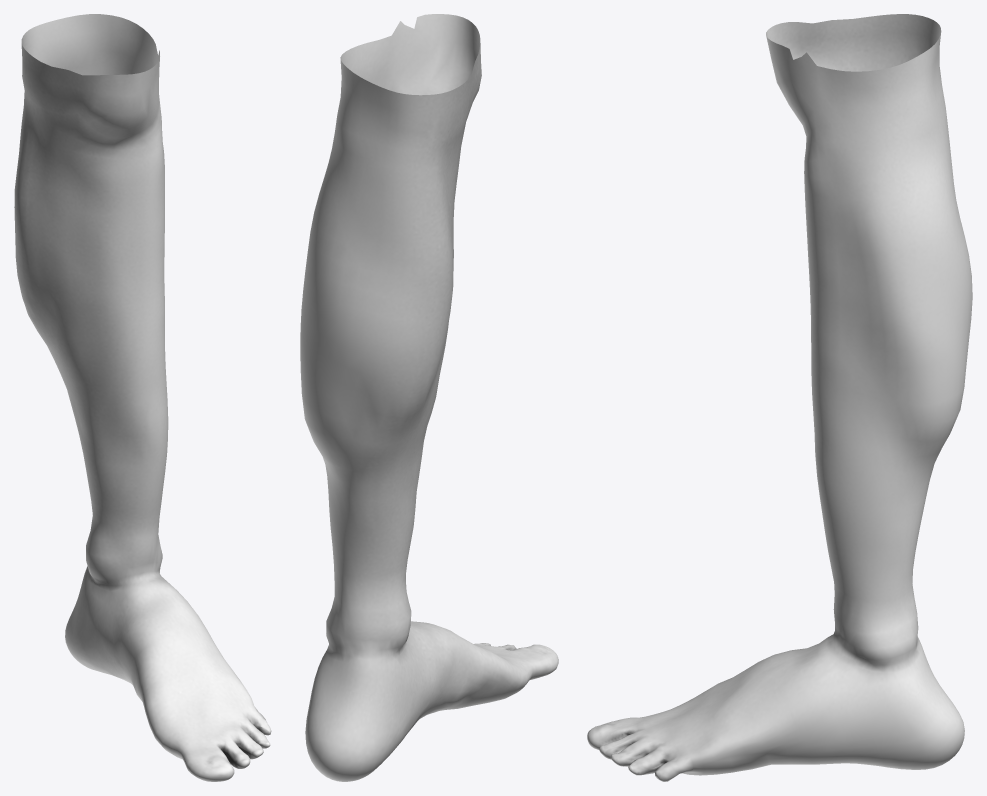
File: pantorrillaIzq.obj
3 views of the same model, side by side, from view 1: azimuth 30°, elevation 25°; view 2: azimuth 150°, elevation 25°; view 3: azimuth 270°, elevation 25° (orthographic). The views are drawn at different scales.
Parts seen in each view (by area): view 1: pantorrillaIzq; view 2: pantorrillaIzq; view 3: pantorrillaIzq.
Boxes of the visible parts, x1,y1,x2,y2 form: pantorrillaIzq: (14,14,271,781); pantorrillaIzq: (300,14,558,781); pantorrillaIzq: (587,14,972,781).
Size of the model in its own units: 0.012 by 0.0543 by 0.0265.
Materials: 1 (1 with a texture image).
